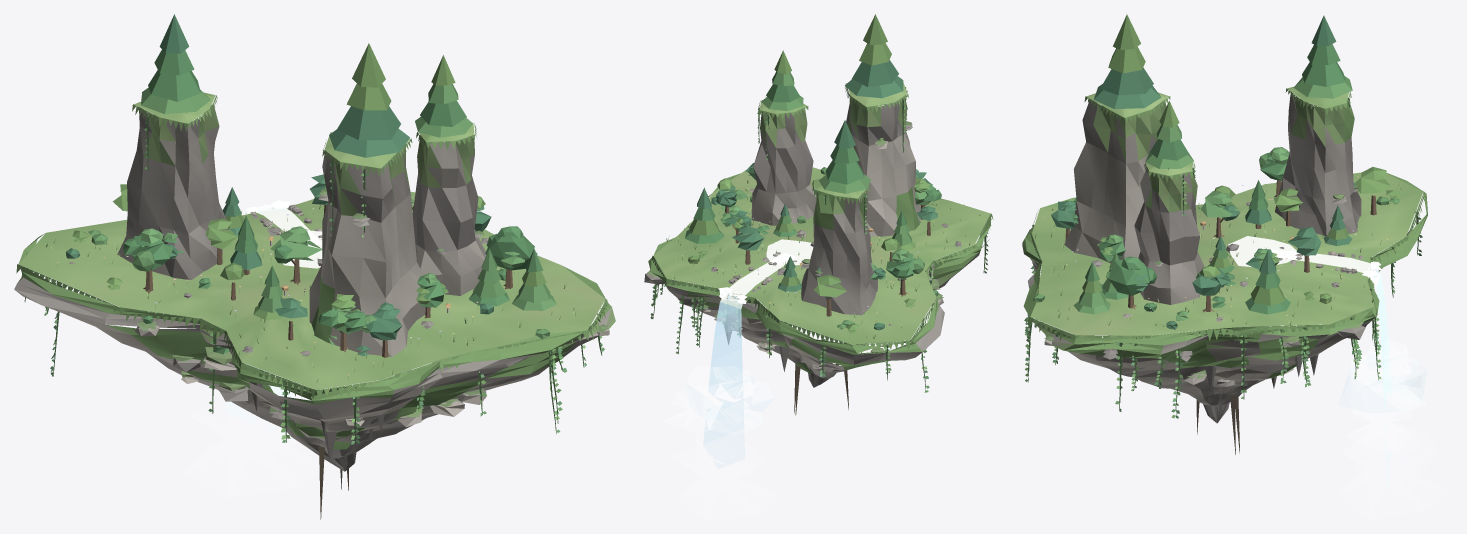
Rendered from dng_dn.glb.
3 views of the same model, side by side, from view 1: azimuth 30°, elevation 25°; view 2: azimuth 150°, elevation 25°; view 3: azimuth 270°, elevation 25° (orthographic). The views are drawn at different scales.
Visible parts, largest first — view 1: Island_Plateau_Wide; view 2: Island_Plateau_Wide; view 3: Island_Plateau_Wide.
Boxes of the visible parts, left/top/right/bottom form: Island_Plateau_Wide: left=14, top=14, right=615, bottom=519; Island_Plateau_Wide: left=644, top=14, right=993, bottom=517; Island_Plateau_Wide: left=1022, top=14, right=1444, bottom=518.
Size of the model in its own units: 35.45 by 44.75 by 36.34.
